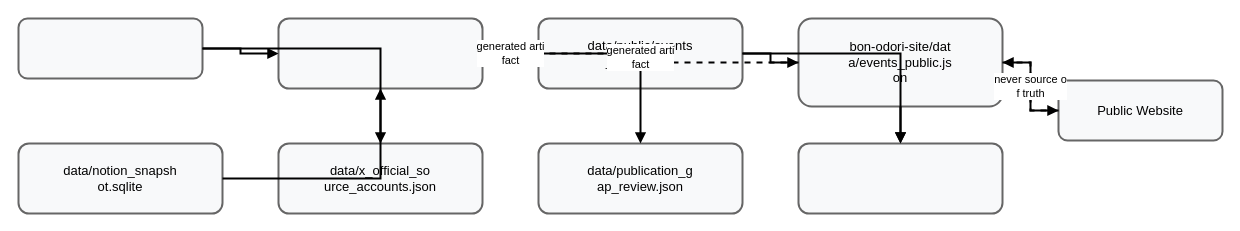
Some shapes in this 1240 by 231 pixel diagram are drawn without their labels. The centre of each missing label's shape, as x and y in pixels:
data/bon_odori_mas ter.sqlite: pixel 380 53
data/public_events _sync_guard.json: pixel 900 178
X/公式HP/自治体/主催ページ: pixel 110 48
